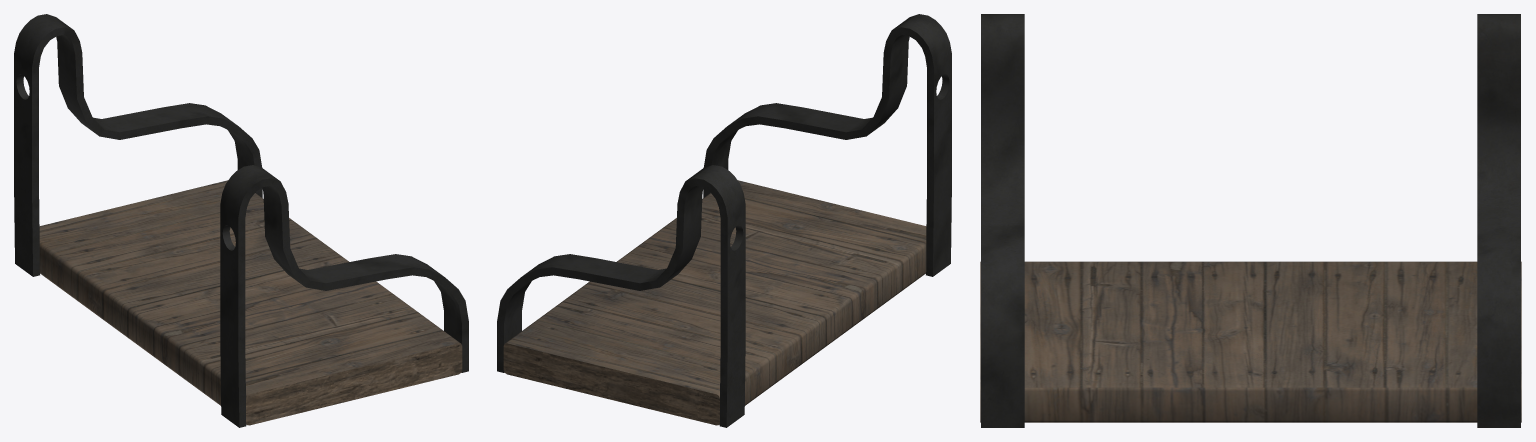
The model's file is shelf3.glb.
3 views of the same model, side by side, from view 1: azimuth 30°, elevation 25°; view 2: azimuth 150°, elevation 25°; view 3: azimuth 270°, elevation 25° (orthographic). The views are drawn at different scales.
Visible parts, largest first — view 1: Object_2; view 2: Object_2; view 3: Object_2.
Boxes of the visible parts, x1,y1,x2,y2 form: Object_2: [14, 14, 468, 427]; Object_2: [497, 14, 951, 427]; Object_2: [980, 14, 1521, 427].
Size of the model in its own units: 2.1 by 2.11 by 3.54.
Materials: 1 (1 with a texture image).
